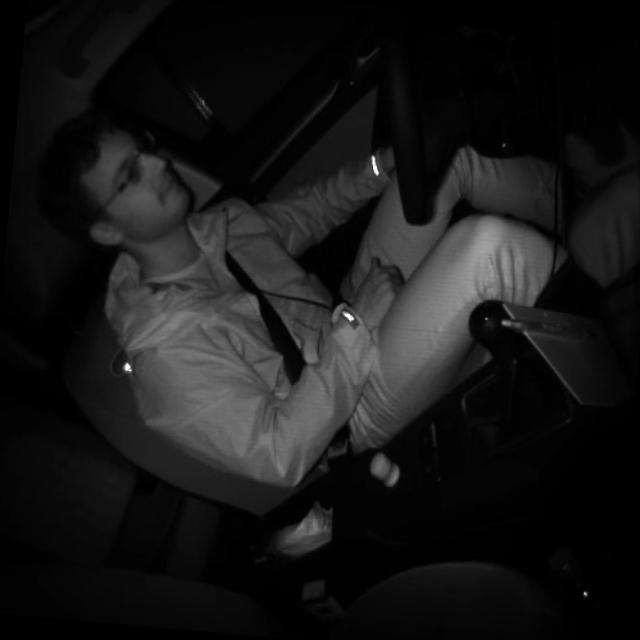pen: (498, 317, 598, 335)
